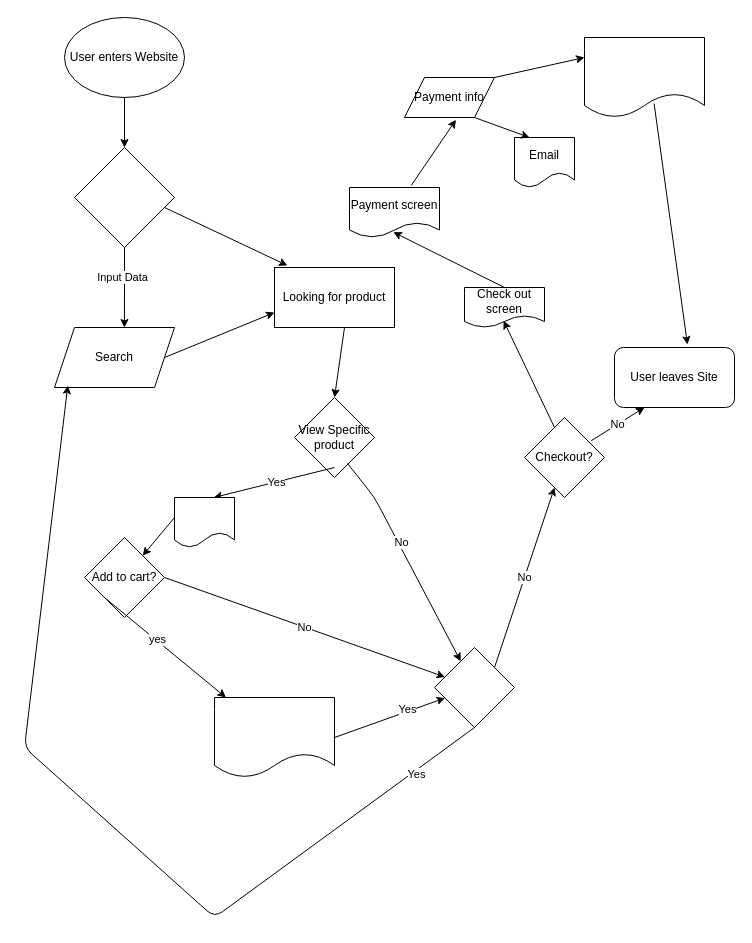
Image size: 752x943. Some labels were removed from this diagram. Each missing label, with the centre of its shape:
Added to cart message: (x=274, y=737)
Continue shopping?: (x=474, y=687)
Explore or Search: (x=124, y=197)
Order Confirmation: (x=644, y=77)
Product page: (x=204, y=522)
